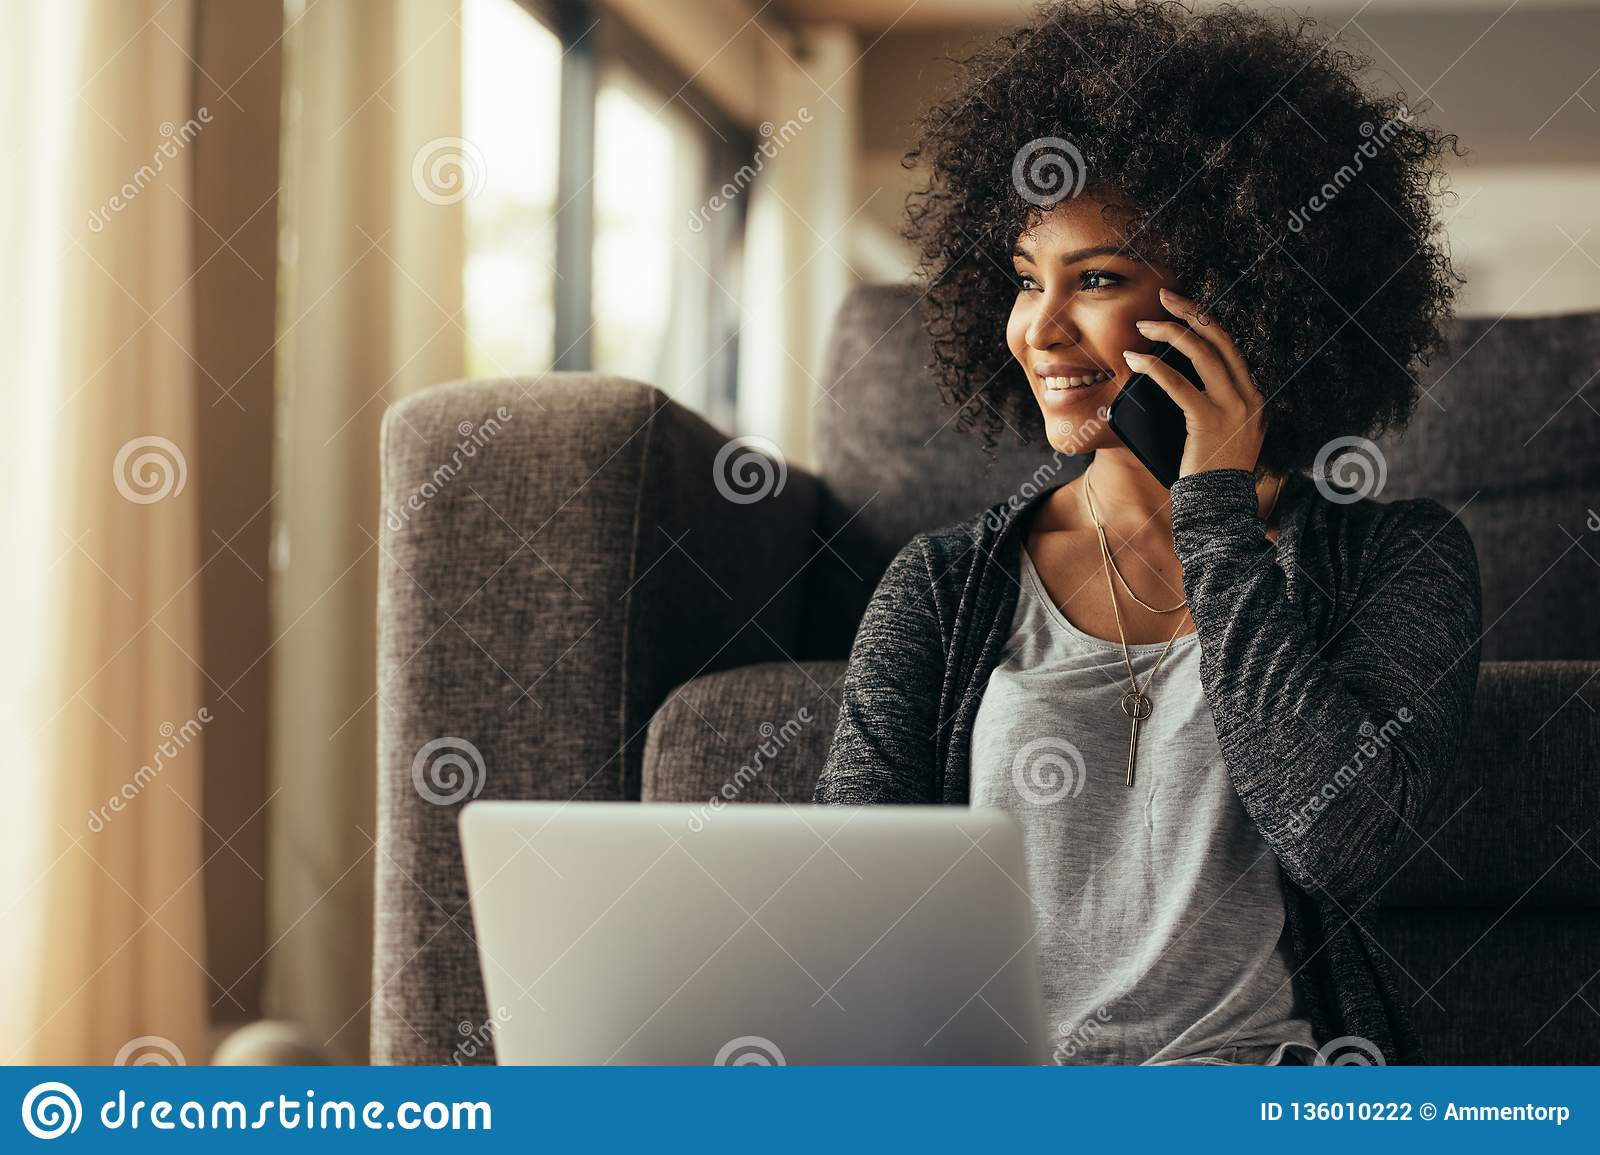phone: (1104, 292, 1229, 498)
talk: (1004, 241, 1276, 498)
